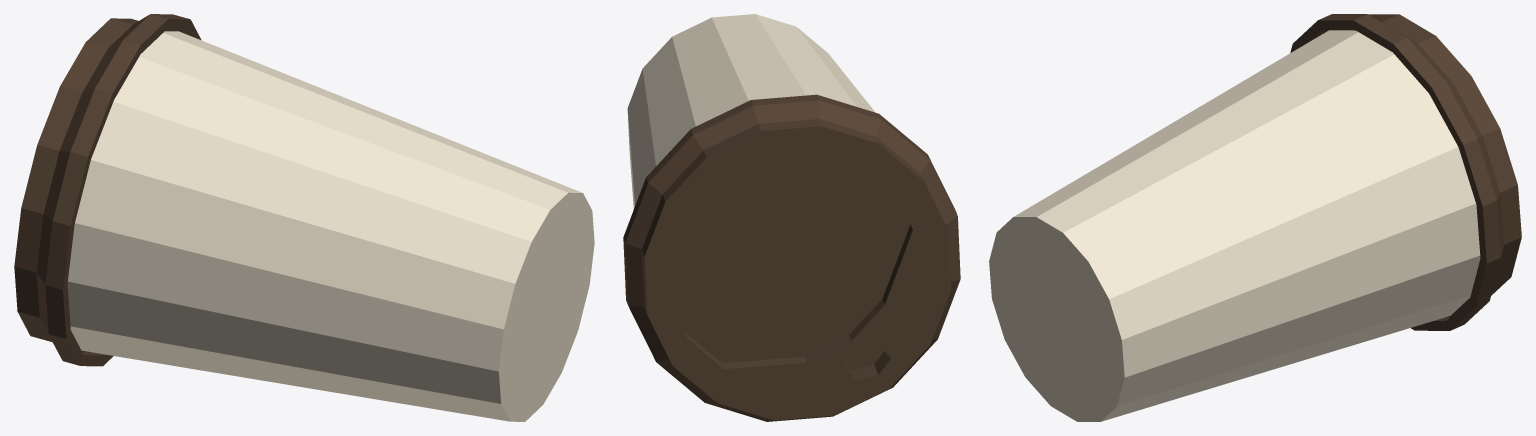
The model's file is coffee.gltf.
3 views of the same model, side by side, from view 1: azimuth 30°, elevation 25°; view 2: azimuth 150°, elevation 25°; view 3: azimuth 270°, elevation 25° (orthographic). The views are drawn at different scales.
Parts seen in each view (by area): view 1: Cylinder, Cylinder.001; view 2: Cylinder.001, Cylinder; view 3: Cylinder, Cylinder.001.
Part boxes in pixels (bbox=[...]): Cylinder: bbox=[67, 31, 594, 421]; Cylinder.001: bbox=[14, 14, 201, 366]; Cylinder.001: bbox=[623, 94, 960, 421]; Cylinder: bbox=[627, 14, 875, 209]; Cylinder: bbox=[989, 30, 1480, 421]; Cylinder.001: bbox=[1290, 14, 1521, 330].
Bounding box in the file's own units: 1.17 × 0.7876 × 1.26.
